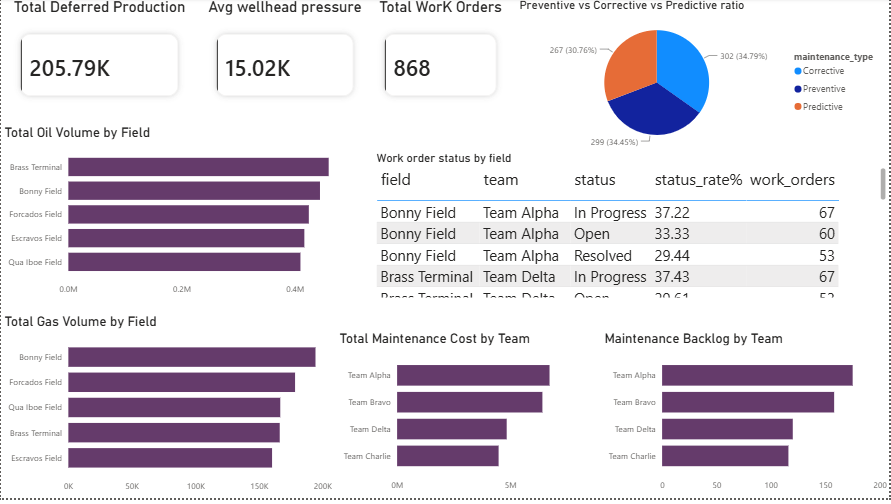

The page's visual inventory and layout, read from the dashboard file:
{"tool":"powerbi","page":{"name":"Production & Maintenance ","canvas":[1280,720],"ordinal":1},"visuals":[{"type":"cardVisual","title":"Total Deferred Production","fields":{"Data":["Sum(gold_production_kpis.total_deferred_bbls)"]},"box":[0,0,283.7,169.9],"z":0},{"type":"cardVisual","title":"Avg wellhead pressure","fields":{"Data":["Sum(gold_production_kpis.avg_wellhead_pressure)"]},"box":[282.2,0,253.4,169.9],"z":1000},{"type":"barChart","title":" Total Oil Volume by Field","fields":{"Y":["Sum(gold_production_kpis.total_oil_volume_bbls)"],"Category":["dim_field.field"]},"box":[0,181.4,524.1,255.3],"z":2000},{"type":"barChart","title":"Total Gas Volume by Field","fields":{"Y":["Sum(gold_production_kpis.total_gas_volume_mcf)"],"Category":["dim_field.field"]},"box":[0,453.5,482.1,267.1],"z":3000},{"type":"barChart","title":" Total Maintenance Cost by Team","fields":{"Y":["Sum(gold_maintenance_kpis.total_maintenance_cost)"],"Category":["dim_team.team"]},"box":[482.1,478.7,362.8,241.9],"z":4000},{"type":"pieChart","title":"Preventive vs Corrective vs Predictive ratio","fields":{"Category":["gold_maintenance_kpis.maintenance_type"],"Y":["Sum(gold_maintenance_kpis.total_work_orders)"]},"box":[741.6,0,534.2,224.6],"z":5000},{"type":"barChart","title":"Maintenance Backlog by Team","fields":{"Category":["dim_team.team"],"Y":["vw_maintenance_by_status.Maintenance Backlog"]},"box":[863.4,478.7,416.6,241.9],"z":6000},{"type":"tableEx","title":"Work order status by field","fields":{"Values":["dim_field.field","dim_team.team","vw_maintenance_by_status.status","vw_maintenance_by_status.status_rate_pct","Sum(vw_maintenance_by_status.total_work_orders)"]},"box":[535.7,220.3,744.5,216],"z":7000},{"type":"cardVisual","title":"Total WorK Orders","fields":{"Data":["Sum(gold_maintenance_kpis.total_work_orders)"]},"box":[524.2,0,217.4,169.9],"z":8000}]}

Visuals, with their boxes in screenshot pixels (x1, y1, x2, y2), scaled from the page's 1280x720 canvas onto the 891x504 screenshot:
"Total Deferred Production" cardVisual: l=0, t=0, r=197, b=119
"Avg wellhead pressure" cardVisual: l=196, t=0, r=373, b=119
" Total Oil Volume by Field" barChart: l=0, t=127, r=365, b=306
"Total Gas Volume by Field" barChart: l=0, t=317, r=336, b=503
" Total Maintenance Cost by Team" barChart: l=336, t=335, r=588, b=503
"Preventive vs Corrective vs Predictive ratio" pieChart: l=516, t=0, r=888, b=157
"Maintenance Backlog by Team" barChart: l=601, t=335, r=890, b=503
"Work order status by field" tableEx: l=373, t=154, r=890, b=305
"Total WorK Orders" cardVisual: l=365, t=0, r=516, b=119
